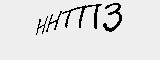З: (100, 1, 126, 31)
Н: (45, 10, 60, 35), (33, 13, 48, 37)
П: (79, 1, 99, 34)
Т: (61, 4, 77, 32)
